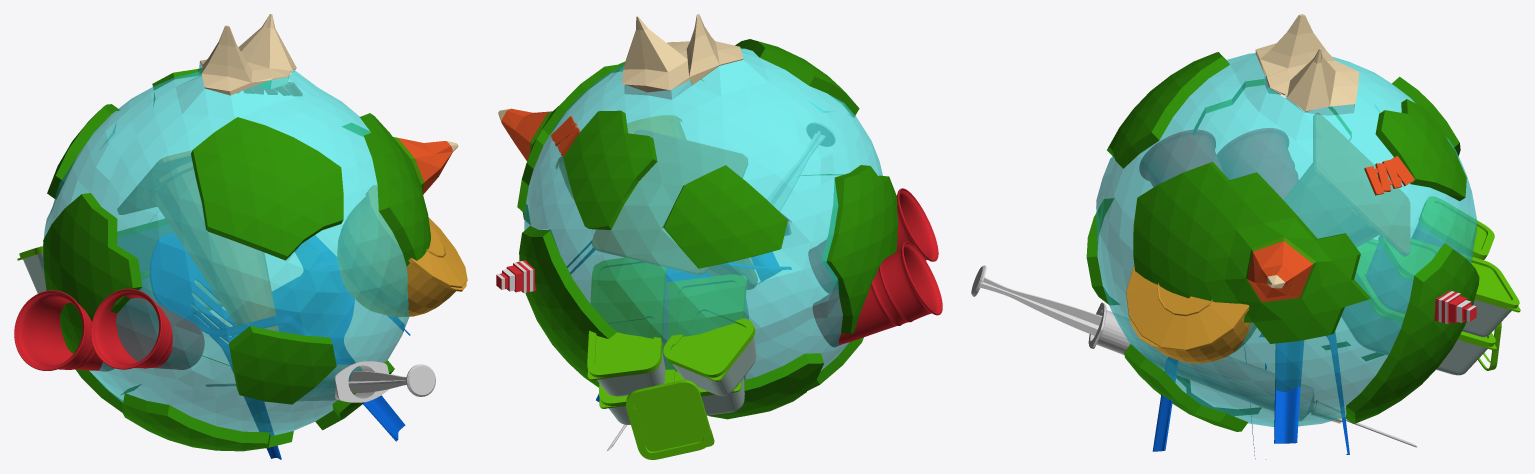
File: world_07.glb
The picture shows the model from 3 angles, left to right: view 1: azimuth 30°, elevation 25°; view 2: azimuth 150°, elevation 25°; view 3: azimuth 270°, elevation 25°; orthographic projection. The views are drawn at different scales.
Parts seen in each view (by area): view 1: World, 03_Chair, 06_Cups, 07_Tupperdose, 04_Cone, 01_Syringe, 05_Boxturm; view 2: World, 05_Boxturm, 04_Cone, 06_Cups, 01_Syringe, 03_Chair, 07_Tupperdose; view 3: World, 05_Boxturm, 04_Cone, 01_Syringe, 07_Tupperdose, 06_Cups, 03_Chair.
Part boxes in pixels (x1,y1,x2,y2): World: (43,14,458,451); 03_Chair: (150,234,410,459); 06_Cups: (14,288,204,371); 07_Tupperdose: (337,185,467,316); 04_Cone: (117,150,278,331); 01_Syringe: (206,361,435,402); 05_Boxturm: (17,219,223,314); World: (496,14,897,419); 05_Boxturm: (587,258,756,459); 04_Cone: (592,129,757,289); 06_Cups: (808,188,942,346); 01_Syringe: (607,122,835,450); 03_Chair: (567,241,791,408); 07_Tupperdose: (556,115,686,198); World: (1086,14,1479,431); 05_Boxturm: (1341,196,1520,375); 04_Cone: (1284,113,1409,256); 01_Syringe: (971,265,1417,447); 07_Tupperdose: (1126,266,1256,363); 06_Cups: (1139,128,1298,199); 03_Chair: (1152,332,1349,459).
Size of what is drawn, in the model's own units: 2.73 by 2.53 by 2.91.
